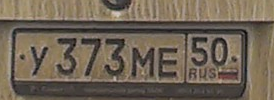character: (78, 36, 103, 78), (103, 36, 127, 78), (54, 38, 79, 78), (130, 45, 157, 80), (208, 32, 230, 67), (157, 46, 180, 79), (29, 43, 49, 77), (191, 35, 209, 68)
